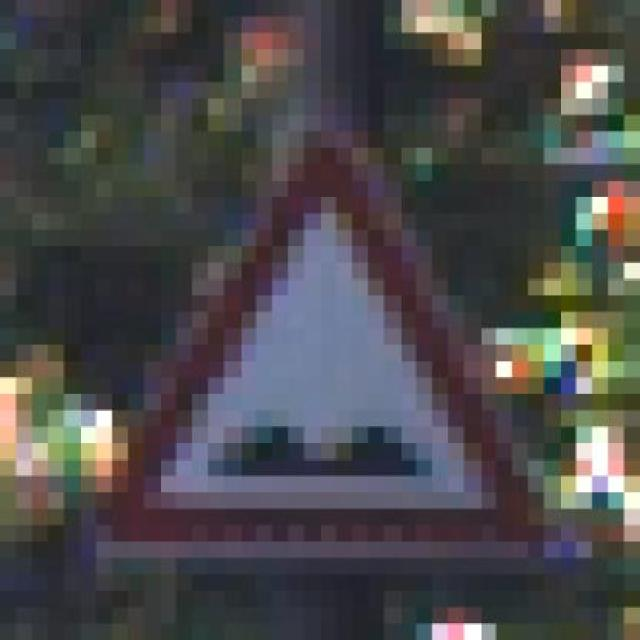Uneven Road: (80, 115, 560, 574)
